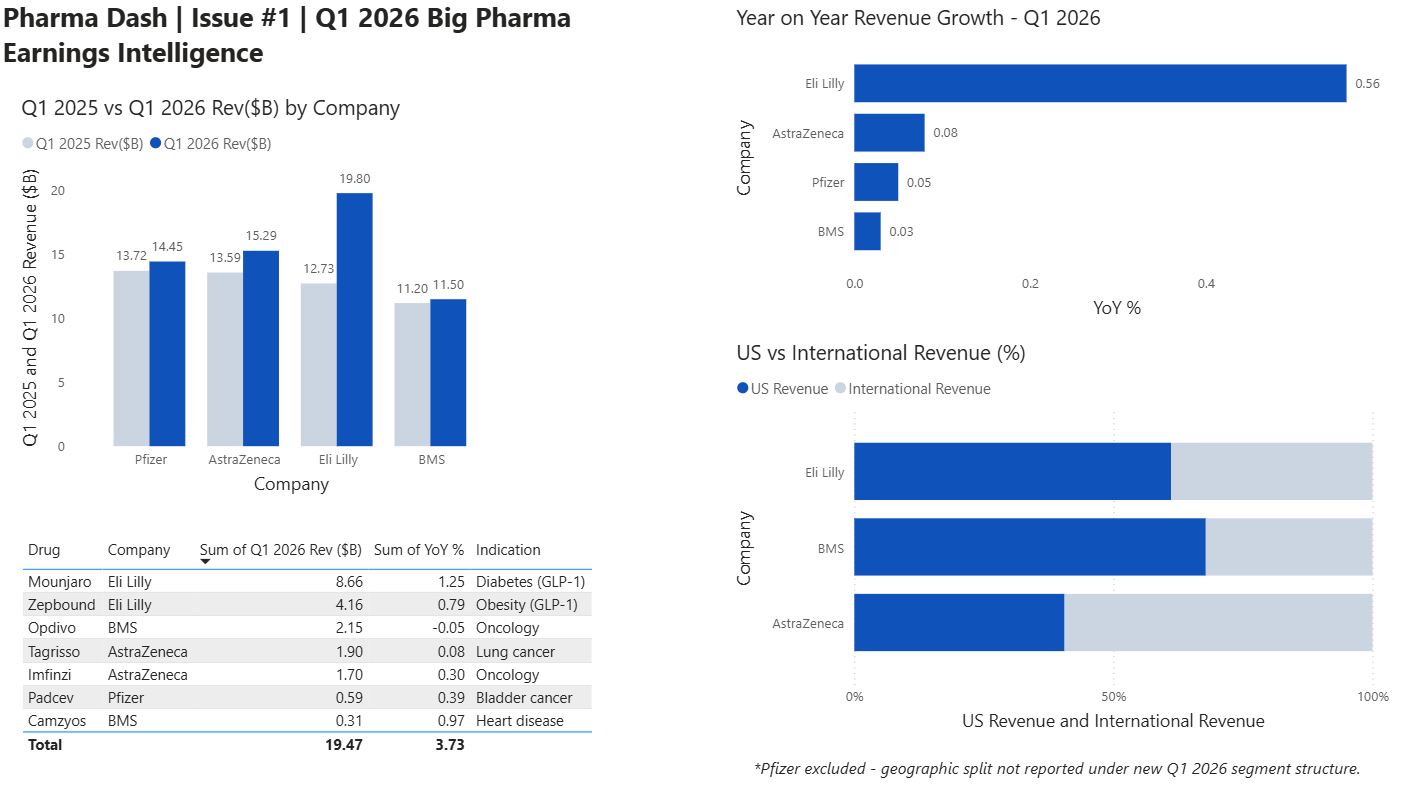

The dashboard page shown, as its layout file describes it:
{"tool":"powerbi","page":{"name":"Page 1","canvas":[1280,720],"ordinal":0},"visuals":[{"type":"clusteredColumnChart","title":"Q1 2025 vs Q1 2026 Rev($B) by Company","fields":{"Category":["Revenue_Comparison.Company"],"Y":["Sum(Revenue_Comparison.Q1 2025 Rev($B))","Sum(Revenue_Comparison.Q1 2026 Rev($B))"]},"box":[17,90,448,367],"z":0},{"type":"clusteredBarChart","title":"Year on Year Revenue Growth - Q1 2026","fields":{"Category":["YoY_Growth.Company"],"Y":["Sum(YoY_Growth.YoY%)"]},"box":[661.4,8.6,598.6,290],"z":1},{"type":"hundredPercentStackedBarChart","title":"US vs International Revenue (%)","fields":{"Category":["Geo_Split.Company"],"Y":["Sum(Geo_Split.US Rev)","Sum(Geo_Split.Intl Rev)"]},"box":[661.1,311.1,598.9,360],"z":2},{"type":"tableEx","fields":{"Values":["Top_Drugs.Drug","Top_Drugs.Company","Sum(Top_Drugs.Q1 2026 Rev ($B))","Sum(Top_Drugs.YoY %)","Top_Drugs.Indication"]},"box":[17.1,485.5,527,216.4],"z":3},{"type":"textbox","box":[677.8,683.3,565.6,36.7],"z":4},{"type":"textbox","box":[0,0,623.3,76.7],"z":5}]}

Visuals, with their boxes in screenshot pixels (x1, y1, x2, y2), scaled from the page's 1280x720 canvas onto the 1409x785 screenshot:
"Q1 2025 vs Q1 2026 Rev($B) by Company" clusteredColumnChart: 19 98 512 498
"Year on Year Revenue Growth - Q1 2026" clusteredBarChart: 728 9 1387 326
"US vs International Revenue (%)" hundredPercentStackedBarChart: 728 339 1387 732
tableEx - Top_Drugs.Drug x Top_Drugs.Company: 19 529 599 765
textbox: 746 745 1369 784
textbox: 0 0 686 84
